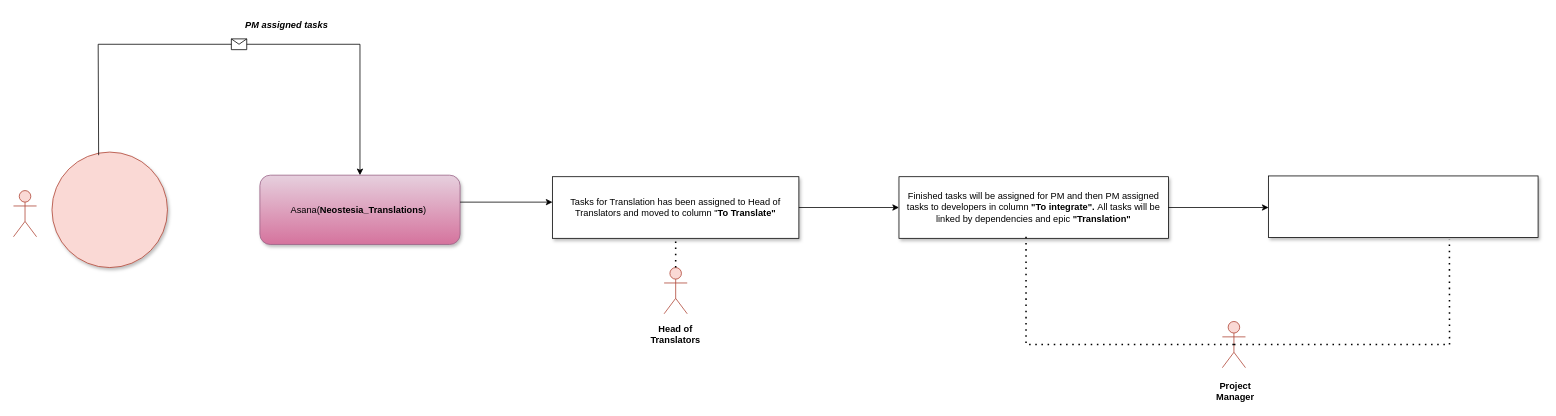
The diagram is 1556 pixels wide and 416 high, and some of its shapes have lost their labels. Here are the shapes that lost their labels. From the top down, the centre of each, then its label:
point 110,210: PM assigned tasks according to current Milestone or project needs
point 1404,207: Implemented tasks by developers will be moved to colum " Done "
